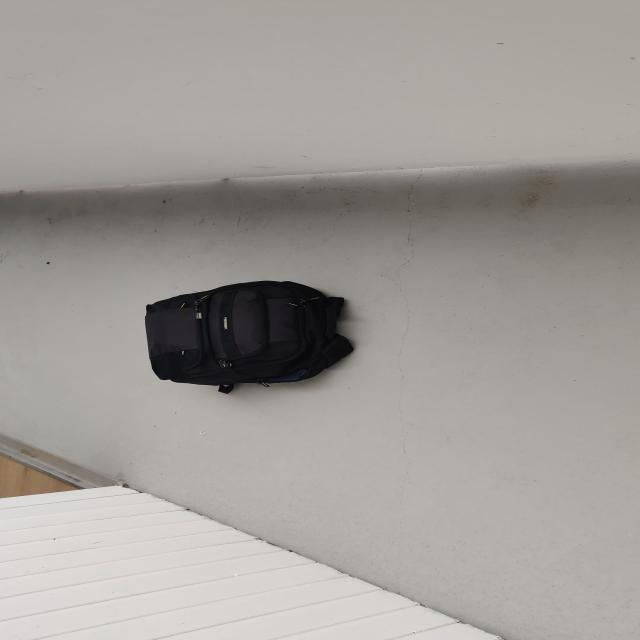backpack: (135, 274, 360, 392)
